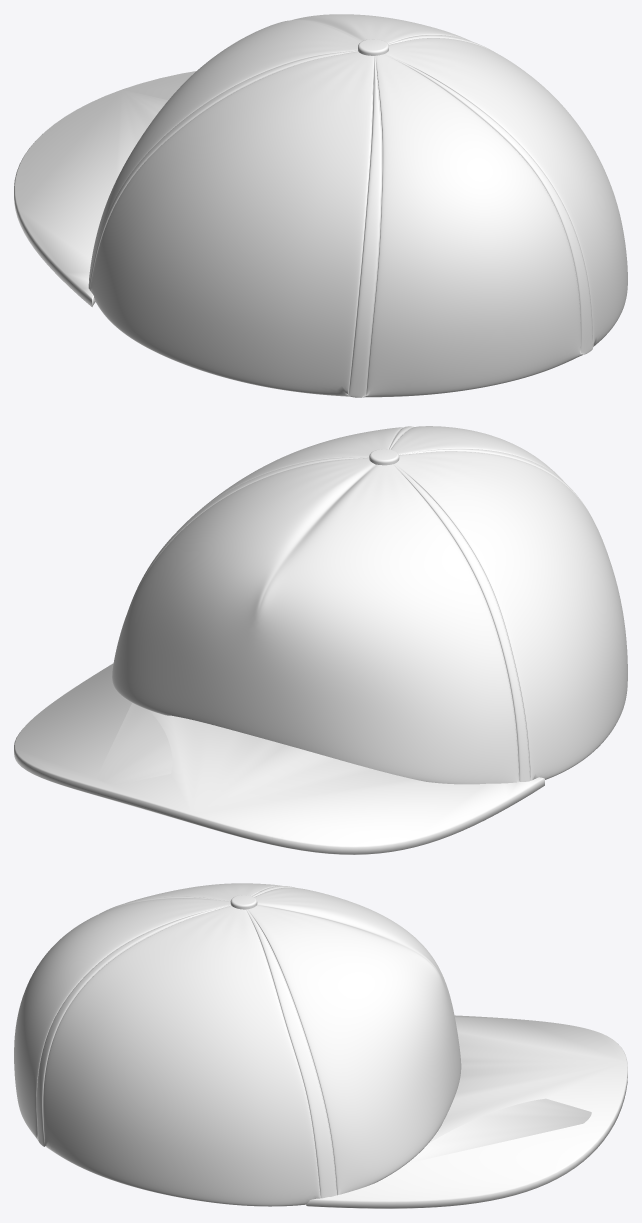
File: whitecap.fbx
3 views of the same model, one above another, from view 1: azimuth 30°, elevation 25°; view 2: azimuth 150°, elevation 25°; view 3: azimuth 270°, elevation 25° (orthographic). The views are drawn at different scales.
Visible parts, largest first — view 1: node_id16; view 2: node_id16; view 3: node_id16.
Part boxes in pixels (x1,y1,x2,y2): node_id16: (14,14,627,397); node_id16: (14,426,627,854); node_id16: (14,883,627,1208).
Size of the model in its own units: 0.47 by 0.2395 by 0.6297.
Materials: 1 (1 with a texture image).
